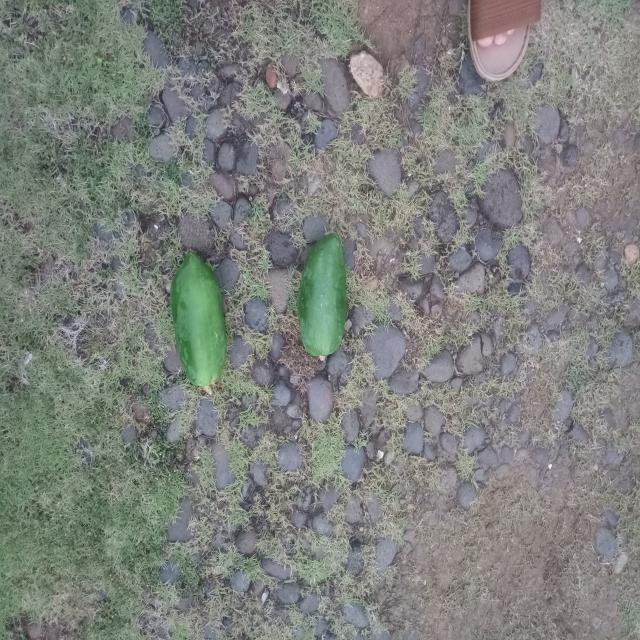Pepaya unrippen: (294, 231, 358, 371), (169, 255, 228, 388)
